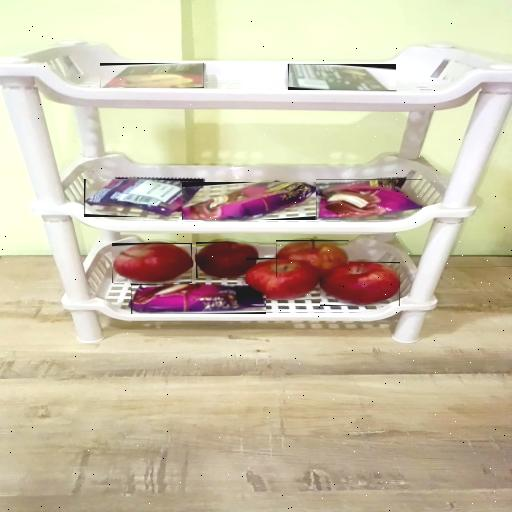Apple: (320, 262, 400, 306), (112, 243, 192, 283), (246, 258, 320, 300), (276, 240, 349, 277), (196, 242, 259, 278)
Choco Fills: (288, 64, 396, 90), (100, 63, 204, 88)
Choco Pie: (182, 182, 320, 220), (84, 179, 203, 217), (316, 179, 422, 220), (131, 284, 266, 314)
